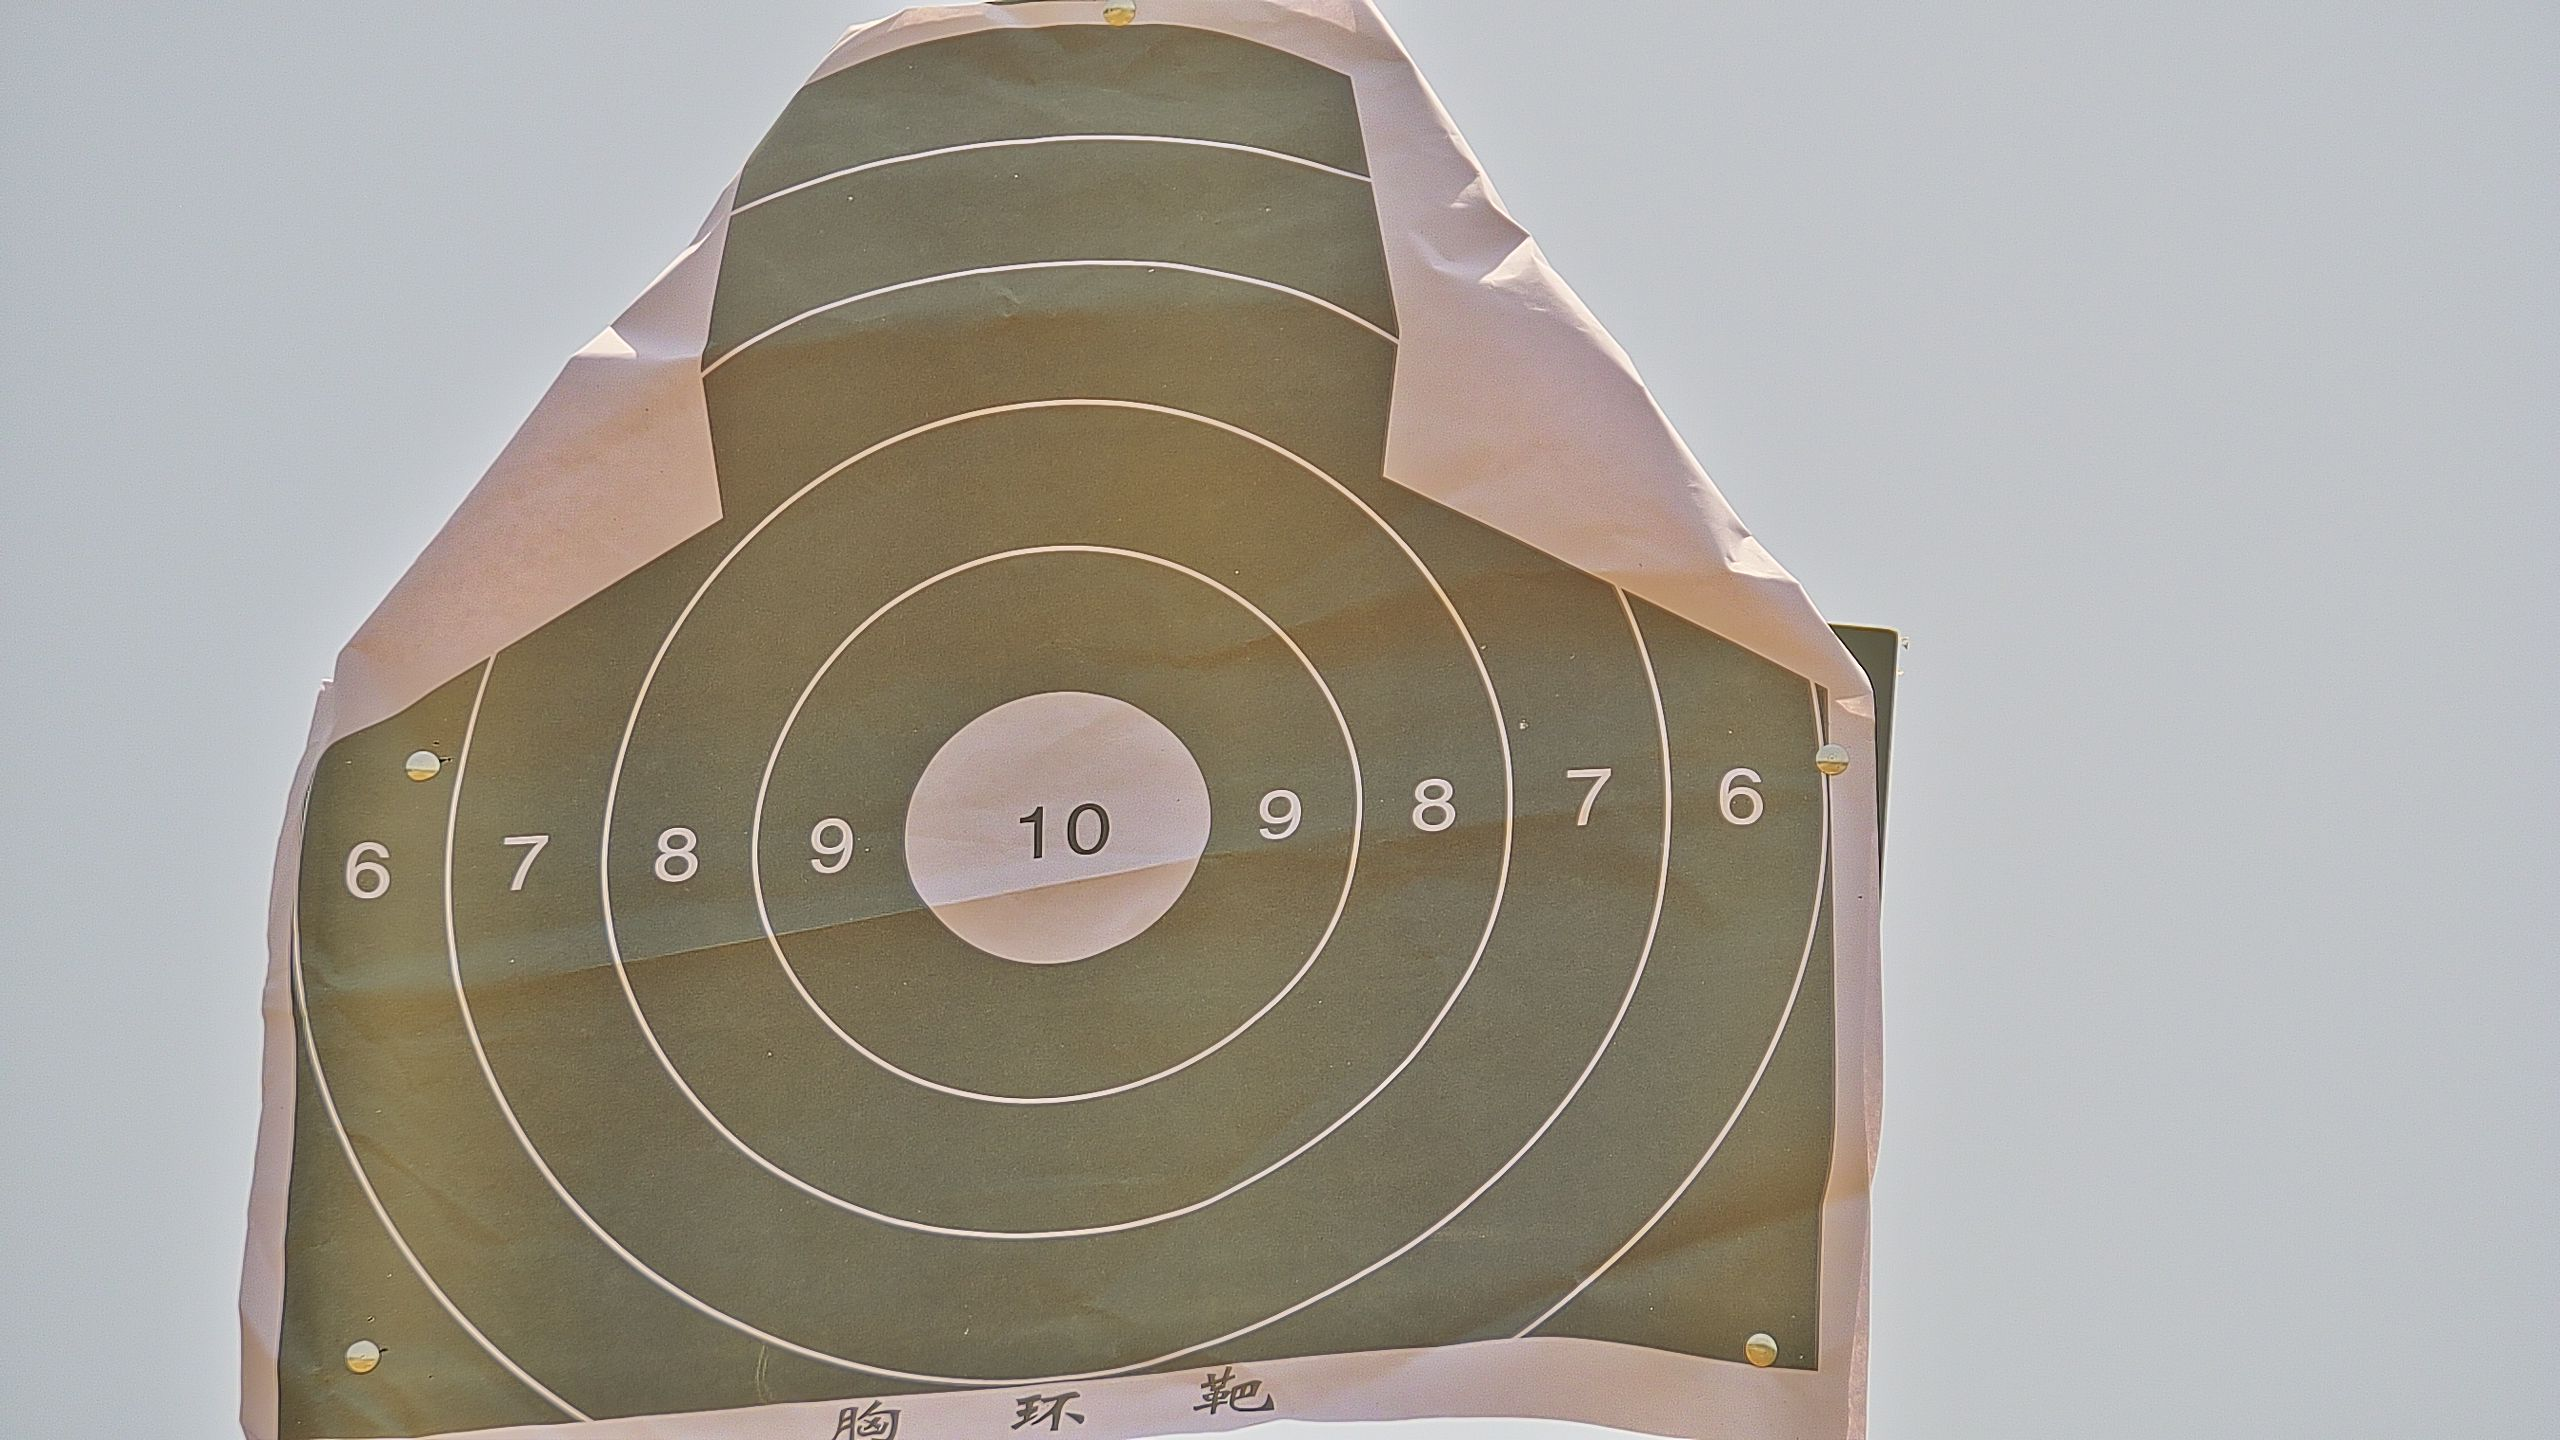target: (271, 32, 1837, 1440), (1051, 832, 1058, 833)
ten: (904, 693, 1220, 964)
